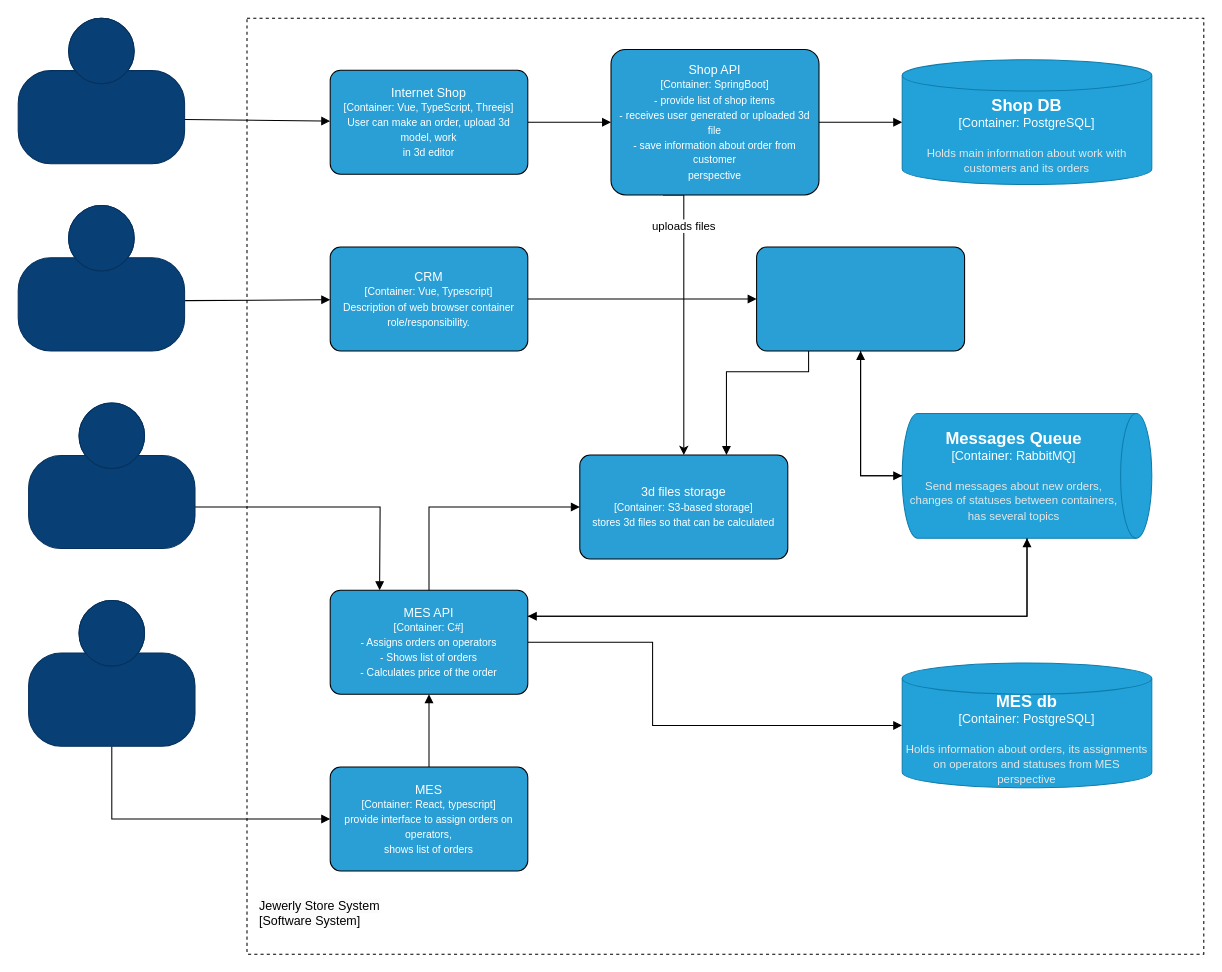
The diagram is 1222 pixels wide and 972 high, and some of its shapes have lost their labels. The centre of each missing label's shape, as x and y in pixels:
API user [Person] Description of external person.: [111,475]
CRM API [Container: SpringBoot] Description of container role/responsibility.: [860,298]
Customer [Person] Description of external person.: [101,90]
Operator [Person] Takes order in work, manufactures jewelry: [111,673]
Seller [Person] Operates with order, confirms manufacturing for the user: [101,277]
